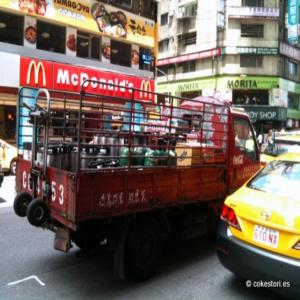Vehicle-registration-plate: (250, 225, 281, 248)
